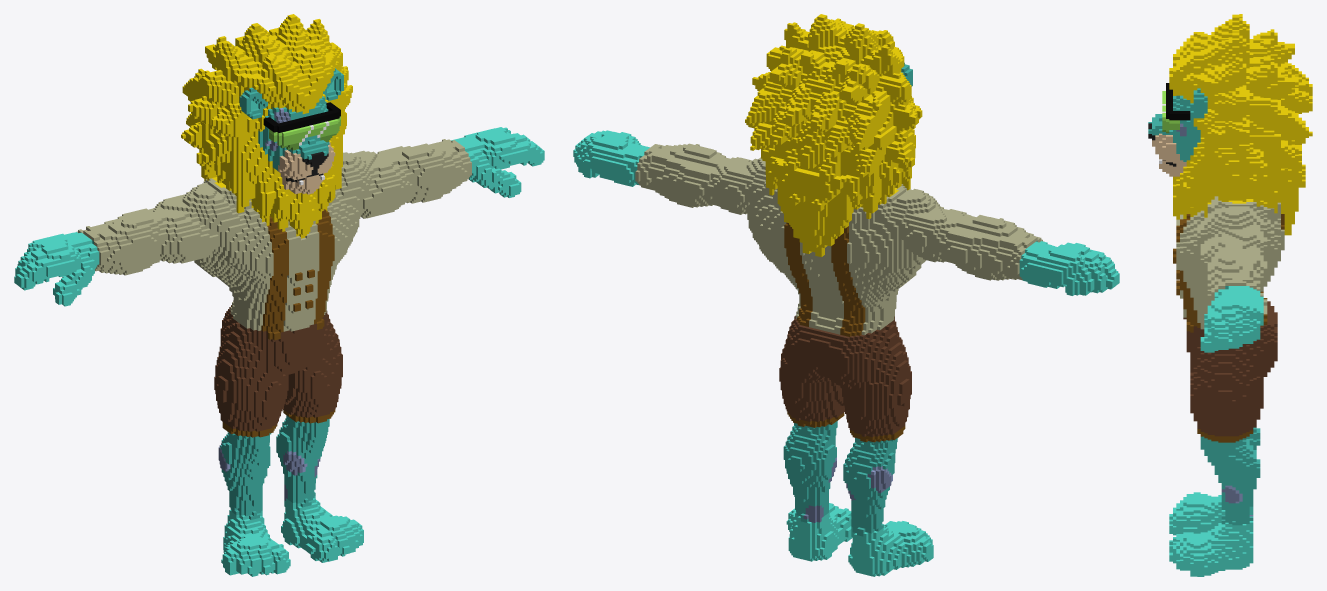
Rendered from 568-BBXJje_v.glb.
3 views of the same model, side by side, from view 1: azimuth 30°, elevation 25°; view 2: azimuth 150°, elevation 25°; view 3: azimuth 270°, elevation 25° (orthographic). The views are drawn at different scales.
Parts seen in each view (by area): view 1: standard; view 2: standard; view 3: standard.
Boxes of the visible parts, left/top/right/bottom form: standard: left=14, top=14, right=544, bottom=576; standard: left=573, top=14, right=1119, bottom=576; standard: left=1148, top=14, right=1312, bottom=576.
Bounding box in the file's own units: 17.2 × 16.5 × 4.7.
5 materials, 5 textured.
